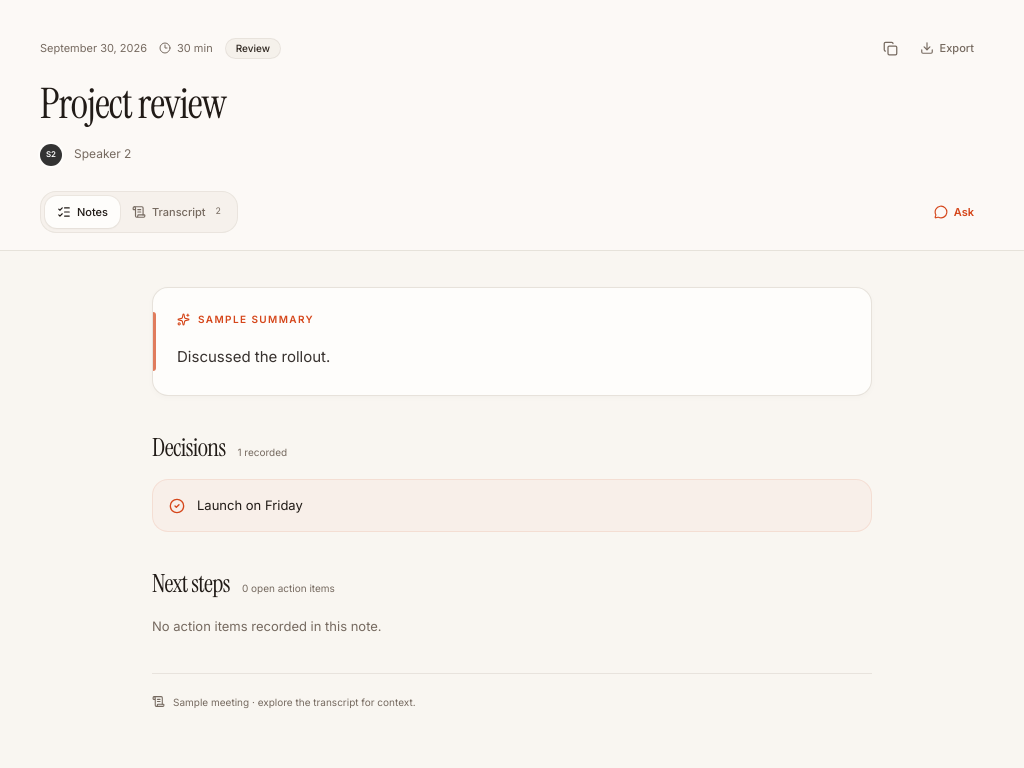
Scenario: meeting details › exports validated transcript JSON without presenting it as a library backup
Click the button "Export".
click(947, 48)  # box [910,32,984,64]
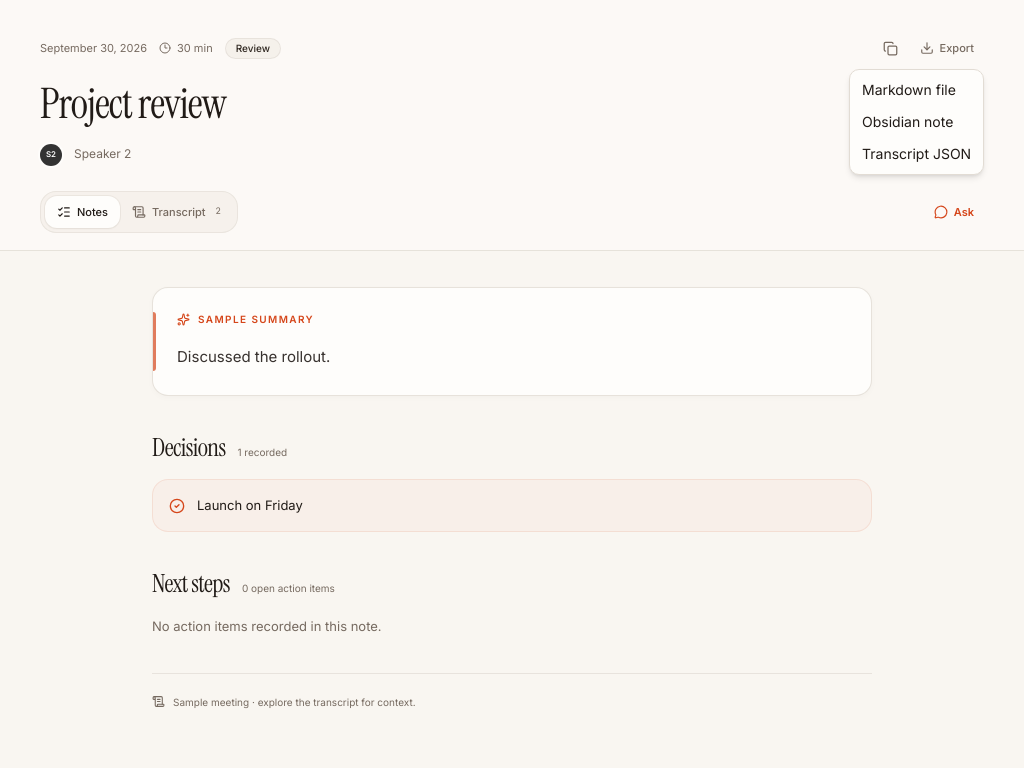
Click the menu item "Transcript JSON".
click(917, 154)  # box [862,145,971,162]
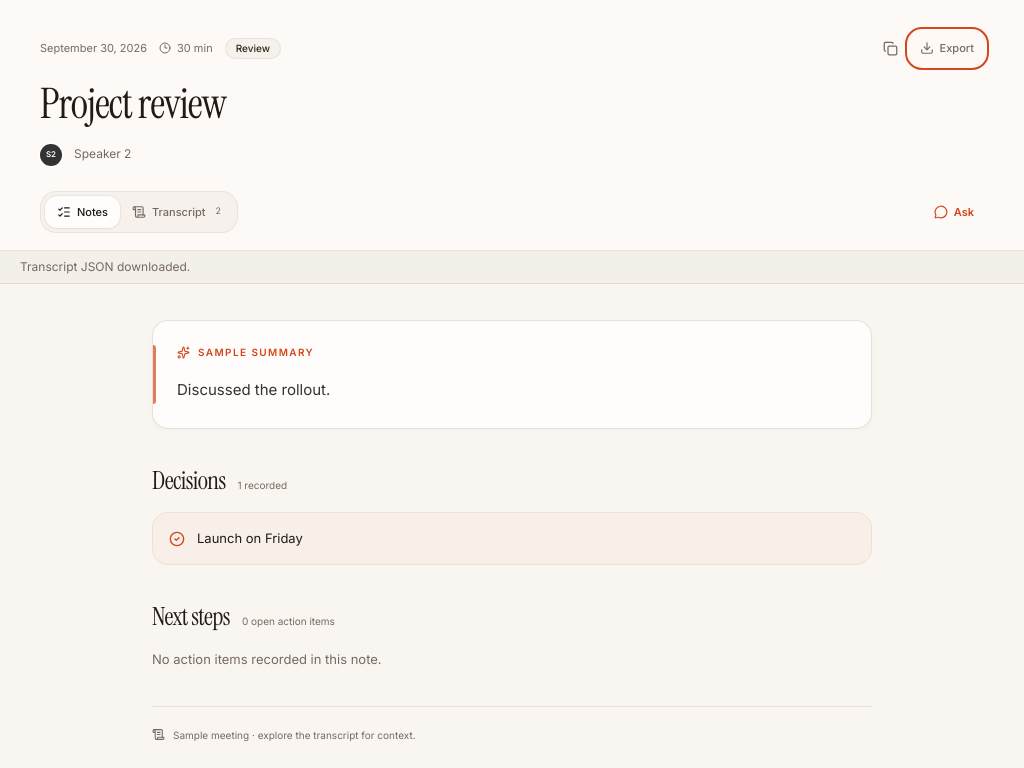
Result: the message reads "Transcript JSON downloaded." at [20,259,190,274]
